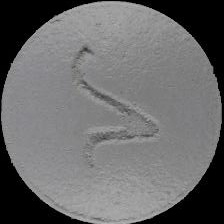0603-5061: (0, 0, 224, 224)
